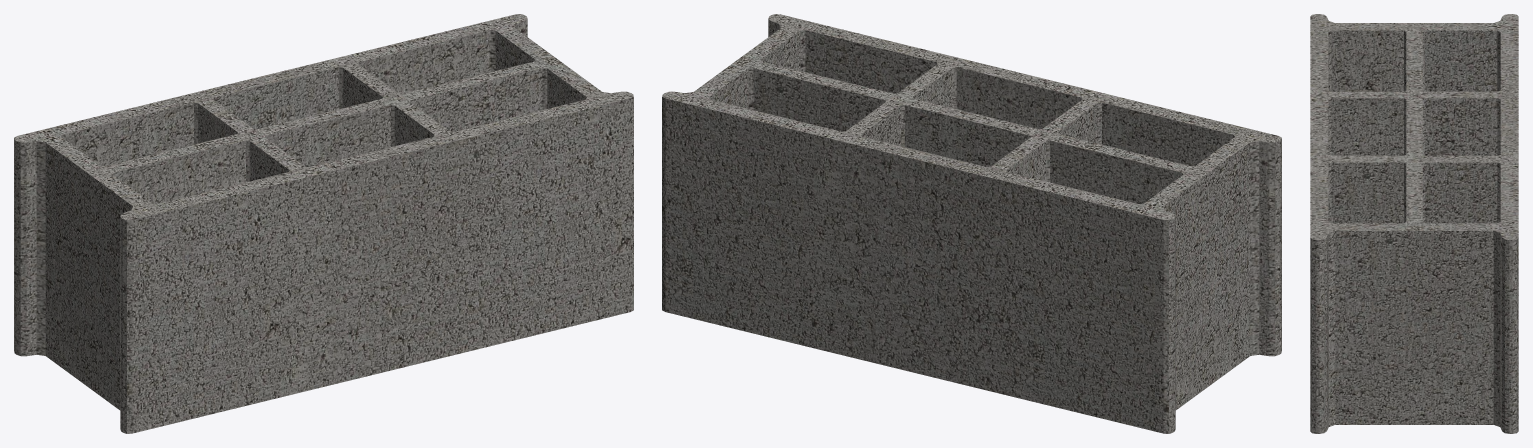
Rendered from sweethome3d-scopia-cinder-block.glb.
3 renders of one model, left to right at view 1: azimuth 30°, elevation 25°; view 2: azimuth 150°, elevation 25°; view 3: azimuth 270°, elevation 25°, orthographic. The views are drawn at different scales.
Parts seen in each view (by area): view 1: Cube_Cube.001; view 2: Cube_Cube.001; view 3: Cube_Cube.001.
Boxes of the visible parts, box(x1,y1,x2,y2) form: Cube_Cube.001: box(14, 14, 633, 433); Cube_Cube.001: box(662, 14, 1281, 433); Cube_Cube.001: box(1310, 14, 1518, 433).
Bounding box in the file's own units: 50 × 20 × 19.5.
Materials: 1 (1 with a texture image).
